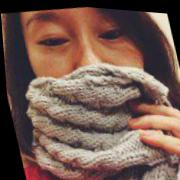WRONG: (16, 2, 161, 148)
